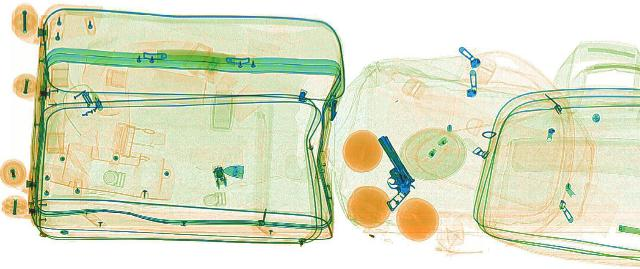Gun: (335, 133, 439, 210)
